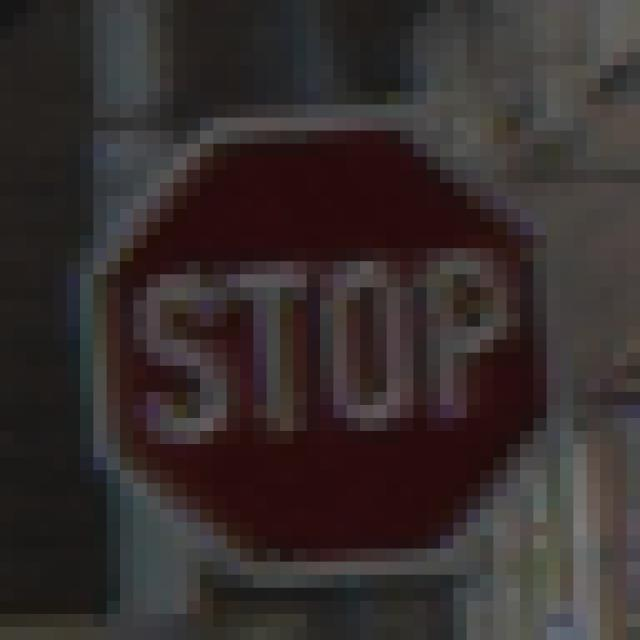STOP: (68, 66, 561, 563)
